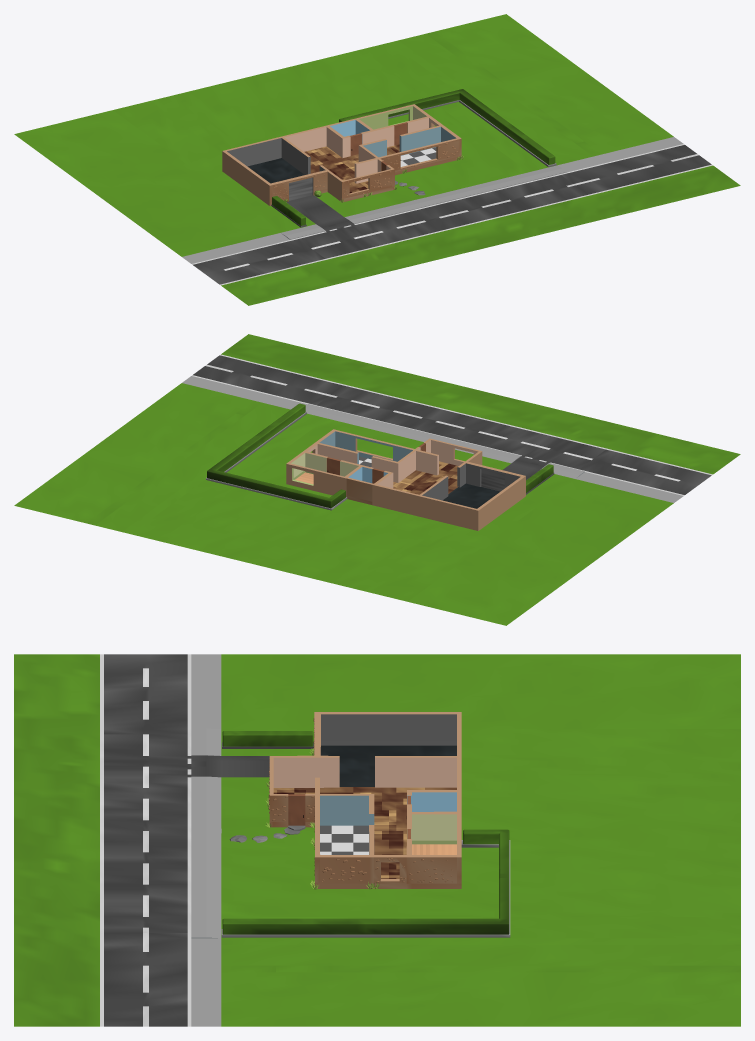
The model's file is HouseBlockoutScaled.fbx.
3 views of the same model, one above another, from view 1: azimuth 30°, elevation 25°; view 2: azimuth 150°, elevation 25°; view 3: azimuth 270°, elevation 25° (orthographic). The views are drawn at different scales.
Visible parts, largest first — view 1: GardenFloor, Baseboards, HouseFloor, HedgeLong, WallKitchen03, WallEntrance03, WallKitchen01, WallGarage03, WallGarage04, WallBedroom04, HedgeShort; view 2: GardenFloor, Baseboards, HedgeLong, HouseFloor, WallKitchen03, WallBedroom04, WallGarage03, WallEntrance03, WallKitchen01; view 3: GardenFloor, HouseFloor, HedgeLong, Baseboards, WallGarage04, HedgeShort, WallKitchen02, WallBedroom03, WallKitchen04, WallBathroom04, WallEntrance04, WallBathroom02 (+3 smaller).
Part boxes in pixels (bbox=[...]): GardenFloor: bbox=[14, 14, 740, 305]; Baseboards: bbox=[222, 118, 463, 205]; HouseFloor: bbox=[247, 144, 436, 193]; HedgeLong: bbox=[339, 89, 556, 167]; WallKitchen03: bbox=[379, 137, 461, 171]; WallEntrance03: bbox=[341, 169, 392, 198]; WallKitchen01: bbox=[399, 125, 440, 151]; WallGarage03: bbox=[271, 170, 327, 199]; WallGarage04: bbox=[281, 137, 310, 174]; WallBedroom04: bbox=[358, 104, 415, 129]; HedgeShort: bbox=[271, 196, 306, 227]; GardenFloor: bbox=[14, 334, 740, 625]; Baseboards: bbox=[286, 454, 525, 530]; HedgeLong: bbox=[206, 403, 347, 510]; HouseFloor: bbox=[295, 456, 500, 508]; WallKitchen03: bbox=[332, 429, 414, 461]; WallBedroom04: bbox=[286, 462, 343, 492]; WallGarage03: bbox=[466, 462, 522, 488]; WallEntrance03: bbox=[431, 439, 482, 464]; WallKitchen01: bbox=[317, 443, 358, 464]; GardenFloor: bbox=[14, 654, 740, 1026]; HouseFloor: bbox=[273, 745, 456, 878]; HedgeLong: bbox=[221, 829, 510, 937]; Baseboards: bbox=[265, 712, 461, 889]; WallGarage04: bbox=[375, 756, 456, 783]; HedgeShort: bbox=[222, 731, 313, 748]; WallKitchen02: bbox=[320, 854, 373, 883]; WallBedroom03: bbox=[406, 855, 456, 883]; WallKitchen04: bbox=[315, 794, 368, 821]; WallBathroom04: bbox=[407, 811, 456, 840]; WallEntrance04: bbox=[273, 755, 314, 783]; WallBathroom02: bbox=[407, 790, 456, 811].
Size of the model in its own units: 95.51 by 3.94 by 78.81.
1 material, 1 textured.
